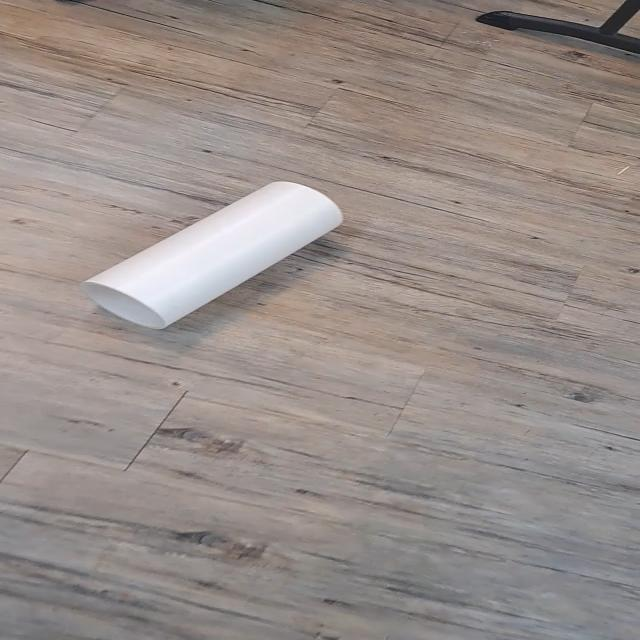CORAL: (65, 169, 355, 341)
